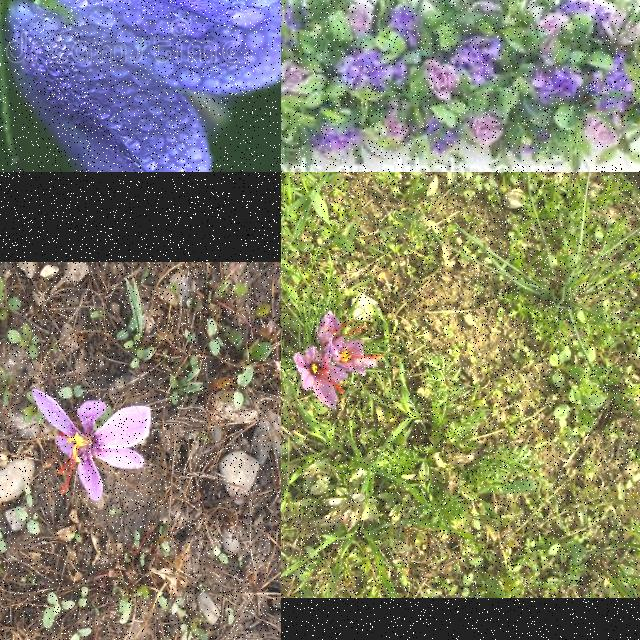flower: (34, 390, 150, 502)
overlap: (292, 311, 386, 411)
